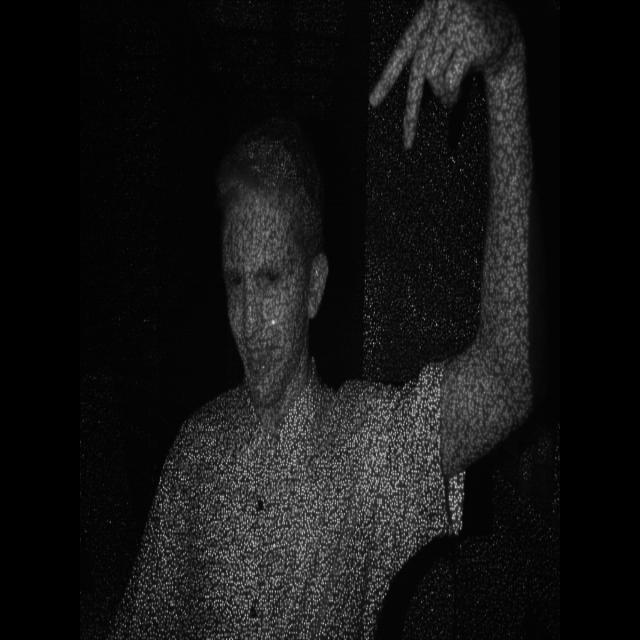P: (364, 0, 496, 147)
